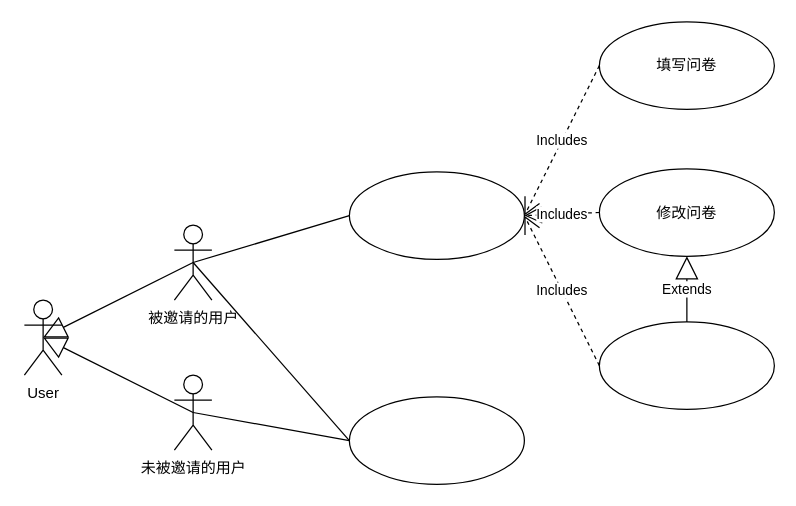
This 796x506 diagram has some shape labels left out. Here are the shapes that lost their labels. From the top down, the centre of each, then its label:
[436,215]: 存储功能
[686,365]: 撤回问卷
[436,440]: 验证身份
